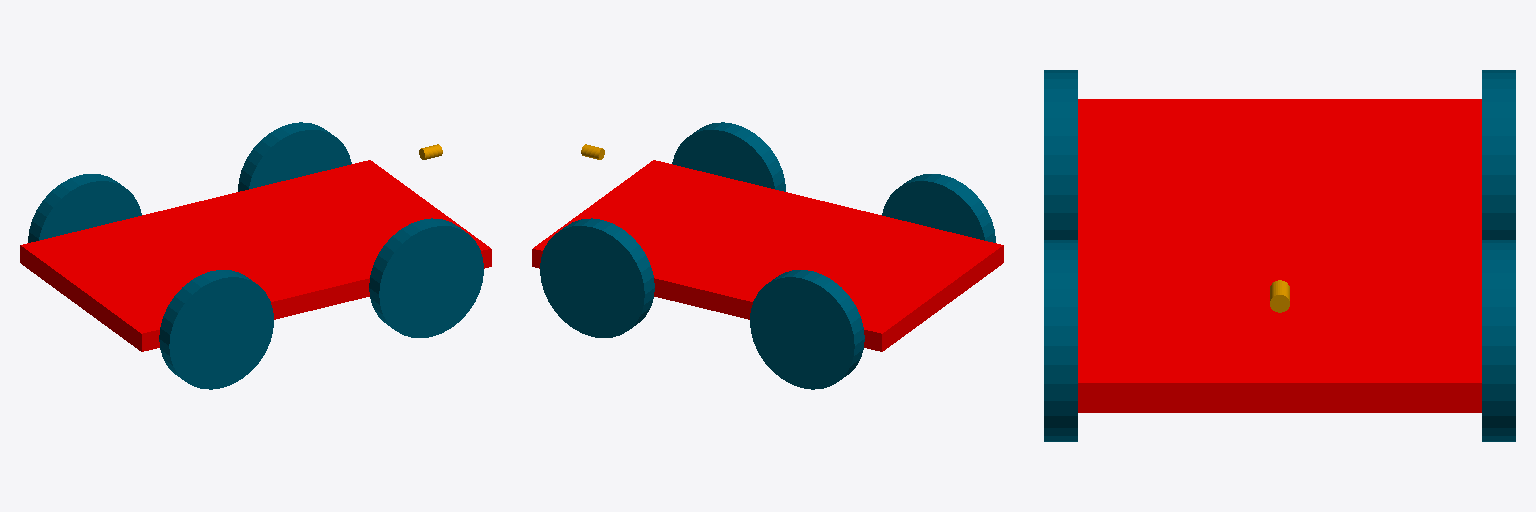
The robot description file, URDF, robot "diff_drive_robot":
<robot name="diff_drive_robot">

    <!--............................... SENSOR PLUGINS ..................................... -->
    <gazebo>
        <plugin 
            filename="ignition-gazebo-joint-state-publisher-system" 
            name="ignition::gazebo::systems::JointStatePublisher">
        </plugin>

        <plugin 
            filename="ignition-gazebo-imu-system" 
            name="ignition::gazebo::systems::Imu">
        </plugin>
    </gazebo>

    <!--............................... MATERIALS ..................................... -->
    <material name="blue">
        <color rgba="0 0.4 0.5 1"/>
    </material>
    <material name="invisible">
        <color rgba="0.0 0.0 0.0 0.0"/>
    </material>

    <!--............................... LINKS ..................................... -->
    <link name="camera_link_optical"></link>

    <link name="imu_link">
        <inertial>
            <mass value="0.4"/>
            <inertia ixx="0.00048333" iyy="0.0013367" izz="0.0018133" ixy="0" ixz="0" iyz="0"/>
        </inertial>
    </link>
    
    <link name="map"></link>

    <link name="chassis_link">
        <visual>
            <origin xyz="0 0 0" rpy="0 0 0"/>
            <geometry>
                <box size="0.6 0.36 0.03"/>
            </geometry>
            <material name="red">
                <color rgba="1 0 0 1"/>
            </material>
        </visual>
        <collision>
            <origin xyz="0 0 0" rpy="0 0 0"/>
            <geometry>
                <box size="0.6 0.36 0.03"/>
            </geometry>
        </collision>
        <inertial>
            <mass value="1.2"/>
            <inertia ixx="0.01303" iyy="0.03632" izz="0.02516" ixy="0" ixz="0" iyz="0"/>
        </inertial>
    </link>
    
 <link name="front_right_wheel_link">
    <visual>
        <origin xyz="0 0 0" rpy="1.5708 0 0"/>
        <geometry>
            <cylinder radius="0.09" length="0.03"/>
        </geometry>
        <material name="blue"/>
    </visual>
    <collision>
        <origin xyz="0 0 0" rpy="1.5708 0 0"/>
        <geometry>
            <cylinder radius="0.09" length="0.03"/>
        </geometry>
    </collision>
    <inertial>
        <mass value="0.6"/>
        <inertia ixx="0.00126" iyy="0.00126" izz="0.00243" ixy="0" ixz="0" iyz="0"/>
    </inertial>
</link>

<link name="front_left_wheel_link">
    <visual>
        <origin xyz="0 0 0" rpy="1.5708 0 0"/>
        <geometry>
            <cylinder radius="0.09" length="0.03"/>
        </geometry>
        <material name="blue"/>
    </visual>
    <collision>
        <origin xyz="0 0 0" rpy="1.5708 0 0"/>
        <geometry>
            <cylinder radius="0.09" length="0.03"/>
        </geometry>
    </collision>
    <inertial>
        <mass value="0.6"/>
        <inertia ixx="0.00126" iyy="0.00126" izz="0.00243" ixy="0" ixz="0" iyz="0"/>
    </inertial>
</link>

<link name="rear_right_wheel_link">
    <visual>
        <origin xyz="0 0 0" rpy="1.5708 0 0"/>
        <geometry>
            <cylinder radius="0.09" length="0.03"/>
        </geometry>
        <material name="blue"/>
    </visual>
    <collision>
        <origin xyz="0 0 0" rpy="1.5708 0 0"/>
        <geometry>
            <cylinder radius="0.09" length="0.03"/>
        </geometry>
    </collision>
    <inertial>
        <mass value="0.6"/>
        <inertia ixx="0.00126" iyy="0.00126" izz="0.00243" ixy="0" ixz="0" iyz="0"/>
    </inertial>
</link>

<link name="rear_left_wheel_link">
    <visual>
        <origin xyz="0 0 0" rpy="1.5708 0 0"/>
        <geometry>
            <cylinder radius="0.09" length="0.03"/>
        </geometry>
        <material name="blue"/>
    </visual>
    <collision>
        <origin xyz="0 0 0" rpy="1.5708 0 0"/>
        <geometry>
            <cylinder radius="0.09" length="0.03"/>
        </geometry>
    </collision>
    <inertial>
        <mass value="0.6"/>
        <inertia ixx="0.00126" iyy="0.00126" izz="0.00243" ixy="0" ixz="0" iyz="0"/>
    </inertial>
</link>

    
    <link name="camera_link">
        <visual>
            <origin xyz="0 0 0" rpy="0 1.5708 0"/>
            <geometry>
                <cylinder radius="0.009" length="0.03"/>
            </geometry>
        </visual>
        <collision>
            <origin xyz="0 0 0" rpy="0 1.5708 0"/>
            <geometry>
                <cylinder radius="0.009" length="0.03"/>
            </geometry>
        </collision>
        <inertial>
            <mass value="0.6"/>
            <inertia ixx="0.0000345" iyy="0.0000345" izz="0.0000243" ixy="0" ixz="0" iyz="0"/>
        </inertial>
    </link>

    <!-- Joints -->
    <joint name="joint_base_chassis" type="fixed">
        <parent link="map"/>
        <child link="chassis_link"/>
        <origin xyz="0.18 0.195 0" rpy="0 0 0"/>
    </joint>    

    <joint name="joint_chassis_camera" type="fixed"> <!-- Changed to fixed -->
        <parent link="chassis_link"/>
        <child link="camera_link"/>
        <origin xyz="0.3 0 0.1" rpy="0 0 0"/> <!-- Adjusted position -->
    </joint>

   <joint name="joint_chassis_imu" type="continuous">
        <parent link="chassis_link"/>
        <child link="imu_link"/>
        <origin xyz="0.18 0.195 0" rpy="0 0 0"/>
        <axis xyz="0 1 0"/>
    </joint>

    <joint name="joint_chassis_front_right_wheel" type="continuous">
        <parent link="chassis_link"/>
        <child link="front_right_wheel_link"/>
        <origin xyz="0.18 0.195 0" rpy="0 0 0"/>
        <axis xyz="0 1 0"/>
    </joint>
    
    <joint name="joint_chassis_front_left_wheel" type="continuous">
        <parent link="chassis_link"/>
        <child link="front_left_wheel_link"/>
        <origin xyz="0.18 -0.195 0" rpy="0 0 0"/>
        <axis xyz="0 1 0"/>
    </joint>
    
    <joint name="joint_chassis_rear_right_wheel" type="continuous">
        <parent link="chassis_link"/>
        <child link="rear_right_wheel_link"/>
        <origin xyz="-0.18 0.195 0" rpy="0 0 0"/>
        <axis xyz="0 1 0"/>
    </joint>
    
    <joint name="joint_chassis_rear_left_wheel" type="continuous">
        <parent link="chassis_link"/>
        <child link="rear_left_wheel_link"/>
        <origin xyz="-0.18 -0.195 0" rpy="0 0 0"/>
        <axis xyz="0 1 0"/>
    </joint>

    <joint name="camera_optical_joint" type="fixed">
        <origin xyz="0 0 0" rpy="-1.571 0 -1.571" />
        <parent link="chassis_link"/>
        <child link="camera_link_optical" />
    </joint>
   
    <!--............................... GAZEBO DRIVER ..................................... -->
    <gazebo>
        <plugin
            filename="libignition-gazebo-diff-drive-system.so"
            name="ignition::gazebo::systems::DiffDrive">
            <left_joint>joint_chassis_front_left_wheel</left_joint>
            <right_joint>joint_chassis_front_right_wheel</right_joint>
            <wheel_separation>0.6</wheel_separation>
            <wheel_radius>0.09</wheel_radius>
            <odom_publish_frequency>1</odom_publish_frequency>
            <topic>cmd_vel</topic>
        </plugin>

        <plugin filename="gz-sim-linearbatteryplugin-system"
          name="gz::sim::systems::LinearBatteryPlugin">
            <battery_name>linear_battery</battery_name>
            <voltage>12.592</voltage>
            <open_circuit_voltage_constant_coef>12.592</open_circuit_voltage_constant_coef>
            <capacity>1.2009</capacity>
            <power_load>6.6</power_load>
            <fix_issue_225>true</fix_issue_225>
            <enable_recharge>true</enable_recharge>
            <charging_time>3.0</charging_time>
            <power_load>2.1</power_load>
            <recharge_by_topic>true</recharge_by_topic>
        </plugin>
    </gazebo>

    <!--............................... IMU PLUGIN ..................................... -->
    <gazebo reference="imu_link">
        <sensor name="imu" type="imu">
            <always_on>true</always_on>
            <update_rate>5</update_rate>
            <visualize>true</visualize>
            <topic>imu</topic>
        </sensor>
    </gazebo>

    <!-- ........................... CAMERA PLUGIN ................................... -->
    <gazebo reference="camera_link">
        <sensor name="rgbd_camera" type="rgbd_camera">
            <camera>
                <horizontal_fov>1.047</horizontal_fov>
                <image>
                    <width>320</width>
                    <height>240</height>
                </image>
                <clip>
                    <near>0.1</near>
                    <far>100</far>
                </clip>
                <save enabled="true">
                    <path>rgbd</path>
                </save>
            </camera>
            <always_on>1</always_on>
            <update_rate>30</update_rate>
            <visualize>true</visualize>
            <topic>rgbd_camera</topic>
            <enable_metrics>true</enable_metrics>
        </sensor>
    </gazebo>
</robot>

--- What the picture shows (computed from the rendered views, not written in the file) ---
The picture shows the robot from 3 angles, left to right: view 1: azimuth 30°, elevation 25°; view 2: azimuth 150°, elevation 25°; view 3: azimuth 270°, elevation 25°; orthographic projection.
Model diff_drive_robot with 9 links and 8 joints (5 continuous, 3 fixed), rooted at map, posed all joints at 0.
Links seen in each view (by area): view 1: chassis_link, front_left_wheel_link, rear_left_wheel_link, front_right_wheel_link, rear_right_wheel_link; view 2: chassis_link, front_right_wheel_link, rear_right_wheel_link, front_left_wheel_link, rear_left_wheel_link; view 3: chassis_link, front_right_wheel_link, front_left_wheel_link, rear_right_wheel_link, rear_left_wheel_link, camera_link.
Link boxes in pixels (x1=…): chassis_link: x1=20, y1=160, x2=491, y2=351; front_left_wheel_link: x1=369, y1=218, x2=483, y2=337; rear_left_wheel_link: x1=159, y1=270, x2=273, y2=389; front_right_wheel_link: x1=238, y1=122, x2=351, y2=191; rear_right_wheel_link: x1=28, y1=174, x2=141, y2=242; chassis_link: x1=532, y1=160, x2=1003, y2=351; front_right_wheel_link: x1=540, y1=218, x2=654, y2=337; rear_right_wheel_link: x1=750, y1=270, x2=864, y2=389; front_left_wheel_link: x1=672, y1=122, x2=785, y2=191; rear_left_wheel_link: x1=882, y1=174, x2=995, y2=242; chassis_link: x1=1078, y1=99, x2=1481, y2=412; front_right_wheel_link: x1=1482, y1=240, x2=1515, y2=441; front_left_wheel_link: x1=1044, y1=240, x2=1077, y2=441; rear_right_wheel_link: x1=1482, y1=70, x2=1515, y2=239; rear_left_wheel_link: x1=1044, y1=70, x2=1077, y2=239; camera_link: x1=1270, y1=280, x2=1289, y2=312.
Size in the robot's own frame: 0.615 by 0.42 by 0.199 metres.
Geometry: primitives only (box / cylinder / sphere), no mesh files.
